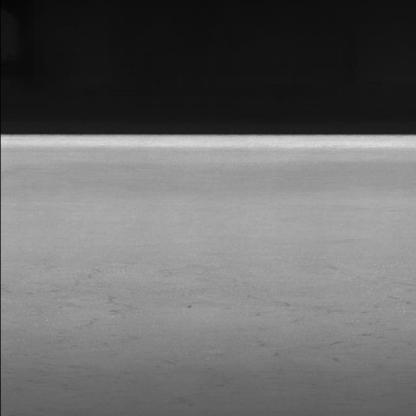silk_spot: (8, 268, 416, 383)
